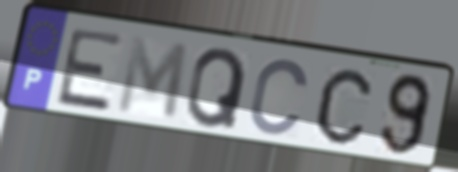9: (378, 71, 435, 159)
C: (246, 56, 312, 139), (313, 66, 375, 147)
E: (53, 25, 128, 115)
M: (114, 33, 192, 124)
Q: (183, 46, 250, 132)
